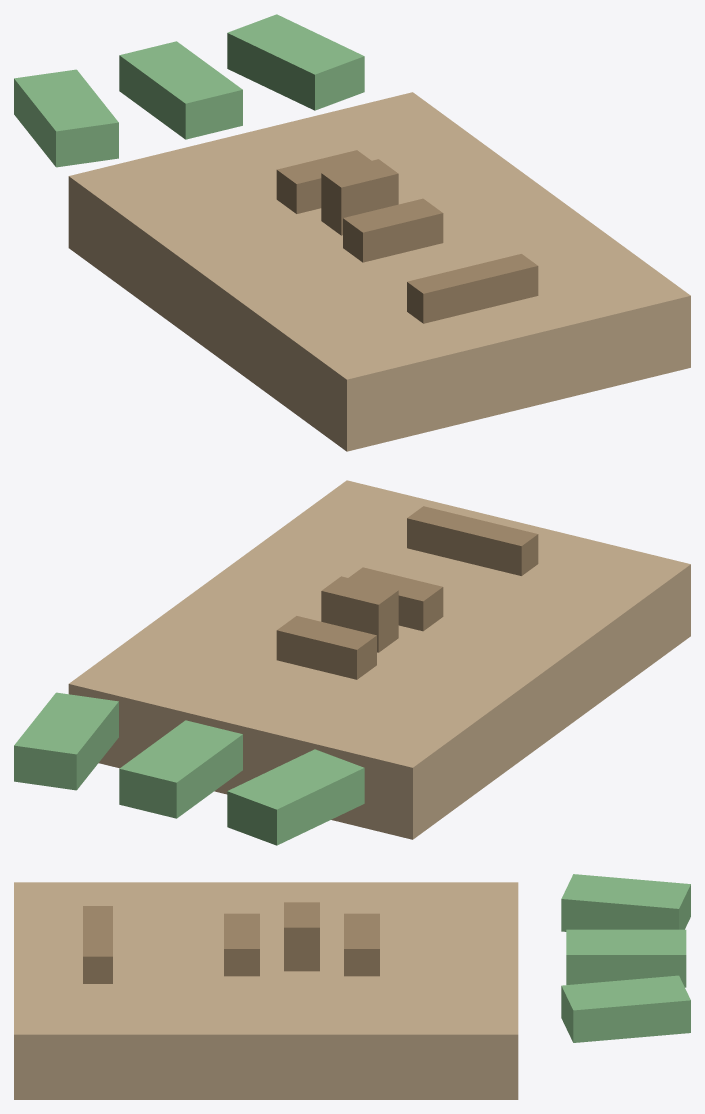
The model's file is 18-Casas_decor_mascara_ancestral.glb.
3 renders of one model, top to bottom at view 1: azimuth 30°, elevation 25°; view 2: azimuth 150°, elevation 25°; view 3: azimuth 270°, elevation 25°, orthographic. The views are drawn at different scales.
Visible parts, largest first — view 1: SM_Mascara_Cara, SM_Mascara_Hoja.002, SM_Mascara_Hoja.001, SM_Mascara_Hoja, SM_Mascara_Boca, SM_Mascara_Ojo.001, SM_Mascara_Nariz, SM_Mascara_Ojo; view 2: SM_Mascara_Cara, SM_Mascara_Hoja, SM_Mascara_Hoja.001, SM_Mascara_Hoja.002, SM_Mascara_Boca, SM_Mascara_Ojo, SM_Mascara_Nariz, SM_Mascara_Ojo.001; view 3: SM_Mascara_Cara, SM_Mascara_Hoja.002, SM_Mascara_Hoja, SM_Mascara_Hoja.001, SM_Mascara_Nariz, SM_Mascara_Boca, SM_Mascara_Ojo, SM_Mascara_Ojo.001.
Boxes of the visible parts, bbox=[...] form: SM_Mascara_Cara: bbox=[68, 92, 690, 451]; SM_Mascara_Hoja.002: bbox=[227, 14, 364, 110]; SM_Mascara_Hoja.001: bbox=[119, 41, 242, 139]; SM_Mascara_Hoja: bbox=[14, 69, 118, 167]; SM_Mascara_Boca: bbox=[407, 254, 538, 323]; SM_Mascara_Ojo.001: bbox=[343, 198, 443, 262]; SM_Mascara_Nariz: bbox=[321, 159, 398, 235]; SM_Mascara_Ojo: bbox=[276, 150, 371, 213]; SM_Mascara_Cara: bbox=[68, 480, 690, 839]; SM_Mascara_Hoja: bbox=[227, 749, 364, 845]; SM_Mascara_Hoja.001: bbox=[119, 720, 242, 818]; SM_Mascara_Hoja.002: bbox=[14, 692, 118, 790]; SM_Mascara_Boca: bbox=[407, 506, 538, 575]; SM_Mascara_Ojo: bbox=[276, 616, 376, 679]; SM_Mascara_Nariz: bbox=[321, 576, 398, 652]; SM_Mascara_Ojo.001: bbox=[348, 567, 443, 631]; SM_Mascara_Cara: bbox=[14, 882, 518, 1099]; SM_Mascara_Hoja.002: bbox=[561, 975, 690, 1042]; SM_Mascara_Hoja: bbox=[561, 874, 690, 931]; SM_Mascara_Hoja.001: bbox=[566, 929, 686, 987]; SM_Mascara_Nariz: bbox=[284, 902, 319, 971]; SM_Mascara_Boca: bbox=[83, 906, 112, 983]; SM_Mascara_Ojo: bbox=[344, 913, 379, 976]; SM_Mascara_Ojo.001: bbox=[224, 913, 259, 976].
Size of the model in its own units: 0.3 by 0.1 by 0.564.
